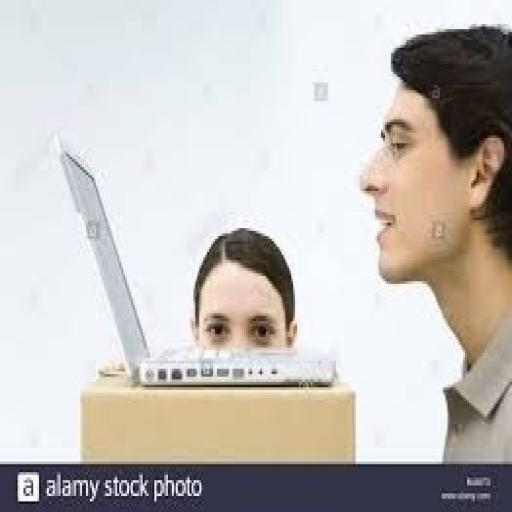using_laptop: (51, 128, 338, 388)
